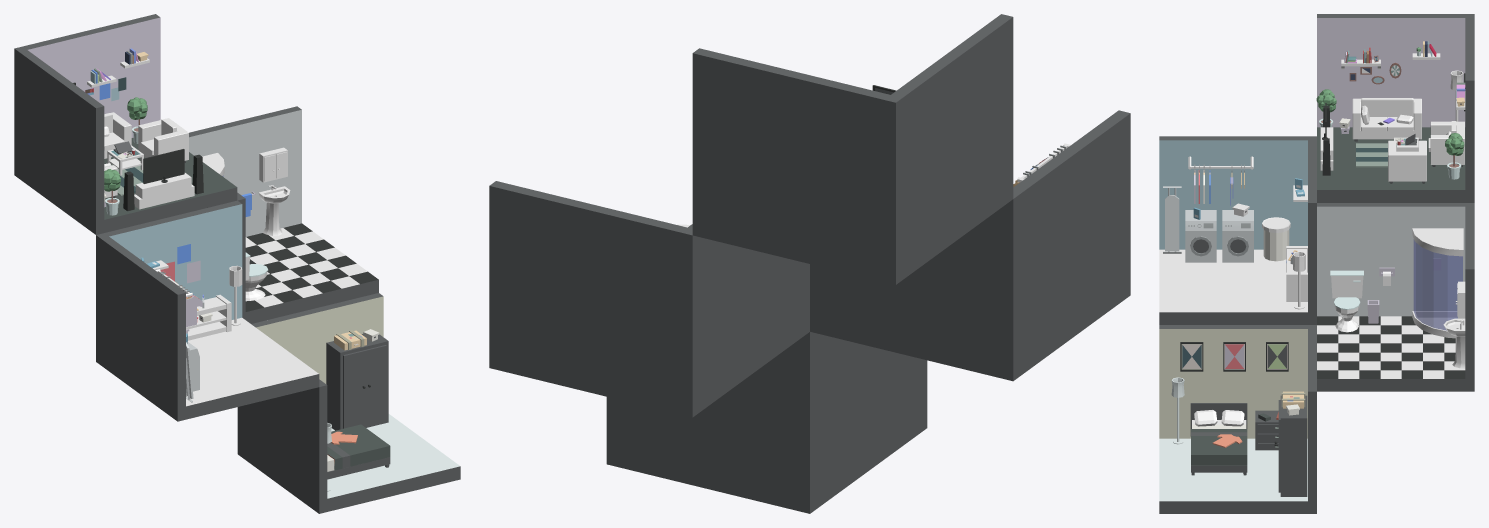
The picture shows the model from 3 angles, left to right: view 1: azimuth 30°, elevation 25°; view 2: azimuth 150°, elevation 25°; view 3: azimuth 270°, elevation 25°; orthographic projection. The views are drawn at different scales.
Visible parts, largest first — view 1: Lavadero, Sala, Pieza, object 86, ropero_caja, Cama_Colchon, pCube77, pCube114, pCube32, pCylinder6, pCube113, pCube112 (+2 smaller); view 2: Sala, object 86, Lavadero, Pieza; view 3: object 86, Lavadero, Sala, Pieza, pPlane5, ropero_caja, Cama_Colchon, pCube77, pCube34, pCube35, pCylinder9, pCube92 (+17 smaller).
Part boxes in pixels (x1,y1,x2,y2): Lavadero: (96,200,319,421); Sala: (14,14,237,234); Pieza: (237,293,460,513); object 86: (189,106,378,323); ropero_caja: (326,334,388,430); Cama_Colchon: (327,424,390,471); pCube77: (138,118,188,160); pCube114: (143,149,184,183); pCube32: (259,147,287,182); pCylinder6: (258,186,290,235); pCube113: (135,173,191,199); pCube112: (134,184,194,209); Sala: (692,14,1013,284); object 86: (489,181,809,417); Lavadero: (810,110,1130,381); Pieza: (606,332,927,513); object 86: (1317,203,1474,391); Lavadero: (1159,136,1316,324); Sala: (1317,14,1474,202); Pieza: (1159,325,1316,513); pPlane5: (1413,239,1462,330); ropero_caja: (1278,395,1307,496); Cama_Colchon: (1191,420,1247,465); pCube77: (1388,140,1426,181); pCube34: (1185,210,1216,262); pCube35: (1222,210,1253,262); pCylinder9: (1412,228,1463,256); pCube92: (1352,98,1421,139).
Size of the model in its own units: 6.99 by 8.99 by 6.99.
1 material, 1 textured.
